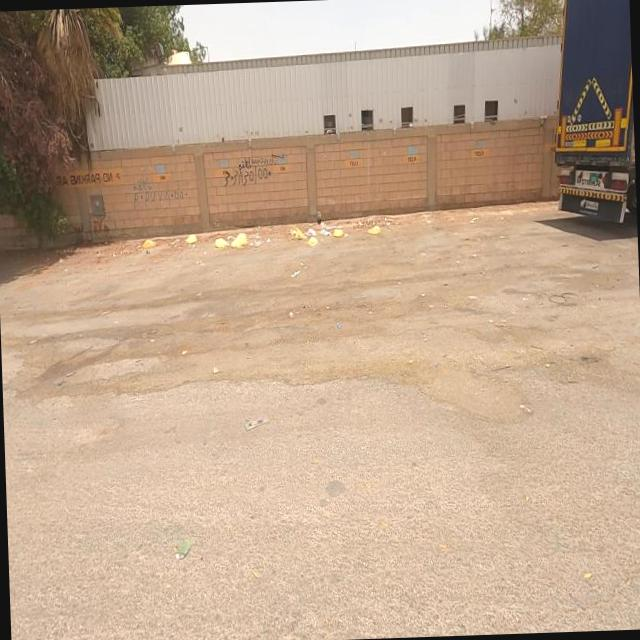debris: (252, 189, 358, 280), (186, 198, 278, 289), (334, 194, 404, 272), (115, 208, 186, 282), (266, 245, 330, 311), (228, 387, 286, 452), (168, 202, 214, 273), (320, 286, 361, 360), (317, 202, 370, 256), (163, 516, 210, 576)
